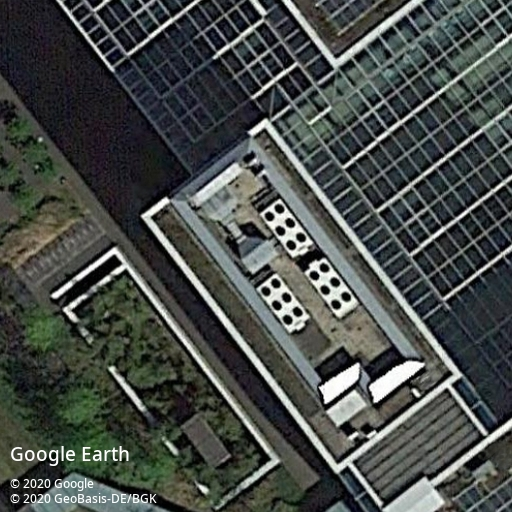Chiller: (256, 274, 310, 335), (260, 197, 313, 259), (305, 258, 359, 318)
